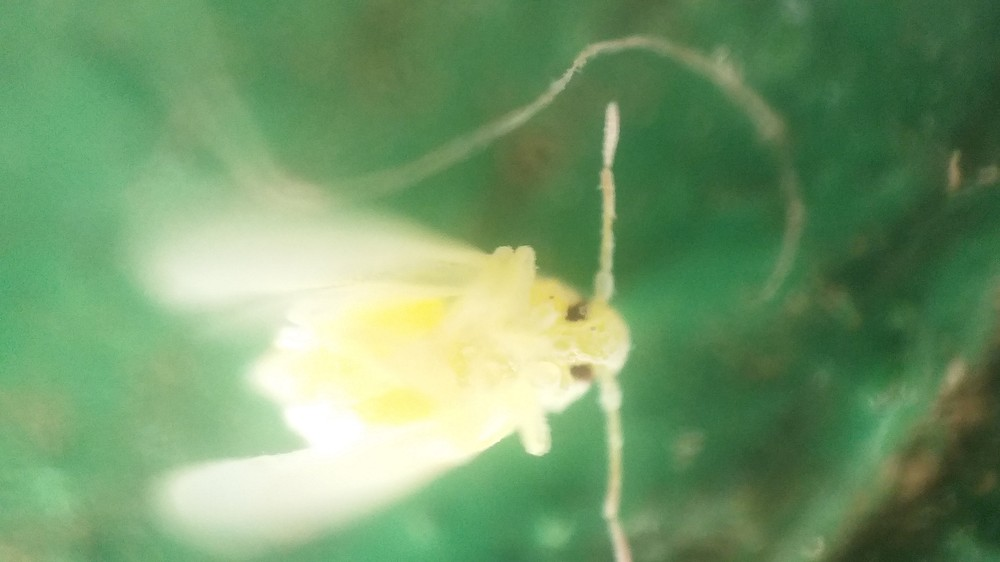Mosca Blanca: (121, 102, 661, 562)
